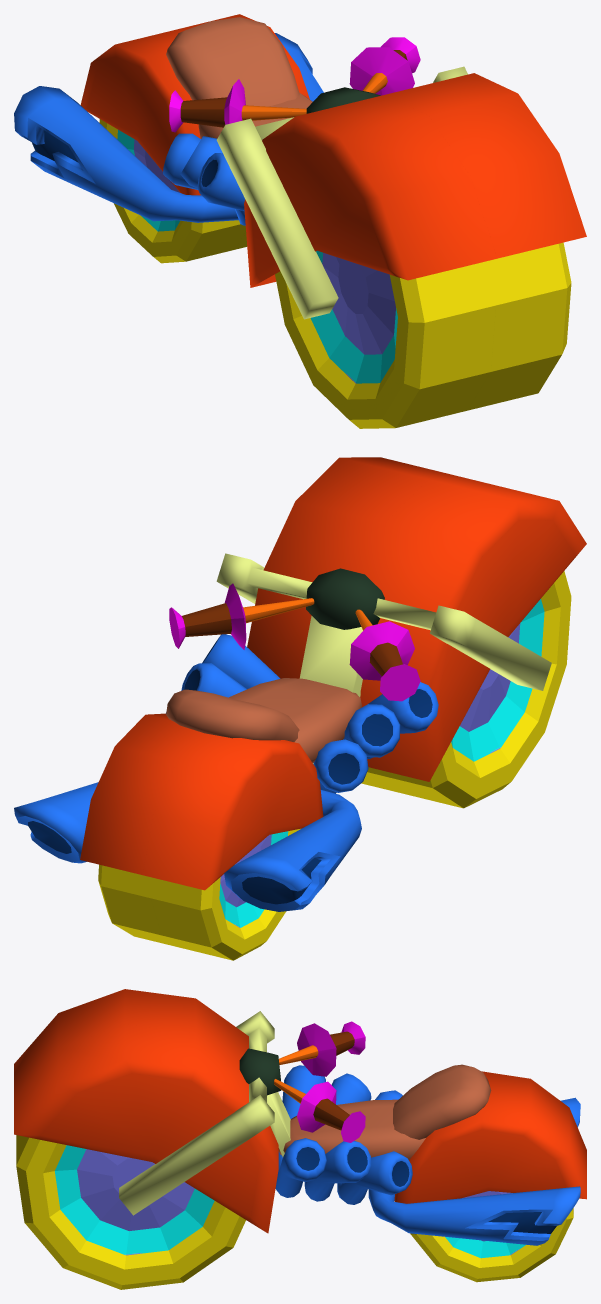
The model's file is Motorkart.fbx.
The picture shows the model from 3 angles, top to bottom: view 1: azimuth 30°, elevation 25°; view 2: azimuth 150°, elevation 25°; view 3: azimuth 270°, elevation 25°; orthographic projection. The views are drawn at different scales.
Parts seen in each view (by area): view 1: Cube.002, Cylinder.001, Cube.004, Seat.002, Cube.001, Circle, Cube; view 2: Cube.002, Cube.004, Cylinder.001, Seat.002, Cube.001, Circle, Cube; view 3: Cube.002, Cube.004, Cylinder.001, Seat.002, Cube.001, Circle, Cube.
Boxes of the visible parts, left/top/right/bottom form: Cube.002: left=244, top=73, right=586, bottom=428; Cylinder.001: left=14, top=33, right=323, bottom=225; Cube.004: left=80, top=14, right=309, bottom=263; Seat.002: left=166, top=17, right=312, bottom=138; Cube.001: left=216, top=66, right=467, bottom=319; Circle: left=169, top=37, right=420, bottom=132; Cube: left=306, top=87, right=380, bottom=113; Cube.002: left=247, top=457, right=586, bottom=808; Cube.004: left=80, top=713, right=323, bottom=960; Cylinder.001: left=14, top=634, right=438, bottom=911; Seat.002: left=166, top=678, right=361, bottom=762; Cube.001: left=216, top=553, right=551, bottom=690; Circle: left=169, top=583, right=420, bottom=701; Cube: left=299, top=568, right=384, bottom=763; Cube.002: left=14, top=989, right=278, bottom=1289; Cube.004: left=394, top=1071, right=586, bottom=1282; Cylinder.001: left=275, top=1065, right=580, bottom=1245; Seat.002: left=278, top=1064, right=491, bottom=1159; Cube.001: left=119, top=1011, right=274, bottom=1215; Circle: left=274, top=1021, right=365, bottom=1142; Cube: left=239, top=1048, right=290, bottom=1156.
Size of the model in its own units: 182 by 175 by 382.
Materials: 1 (1 with a texture image).
